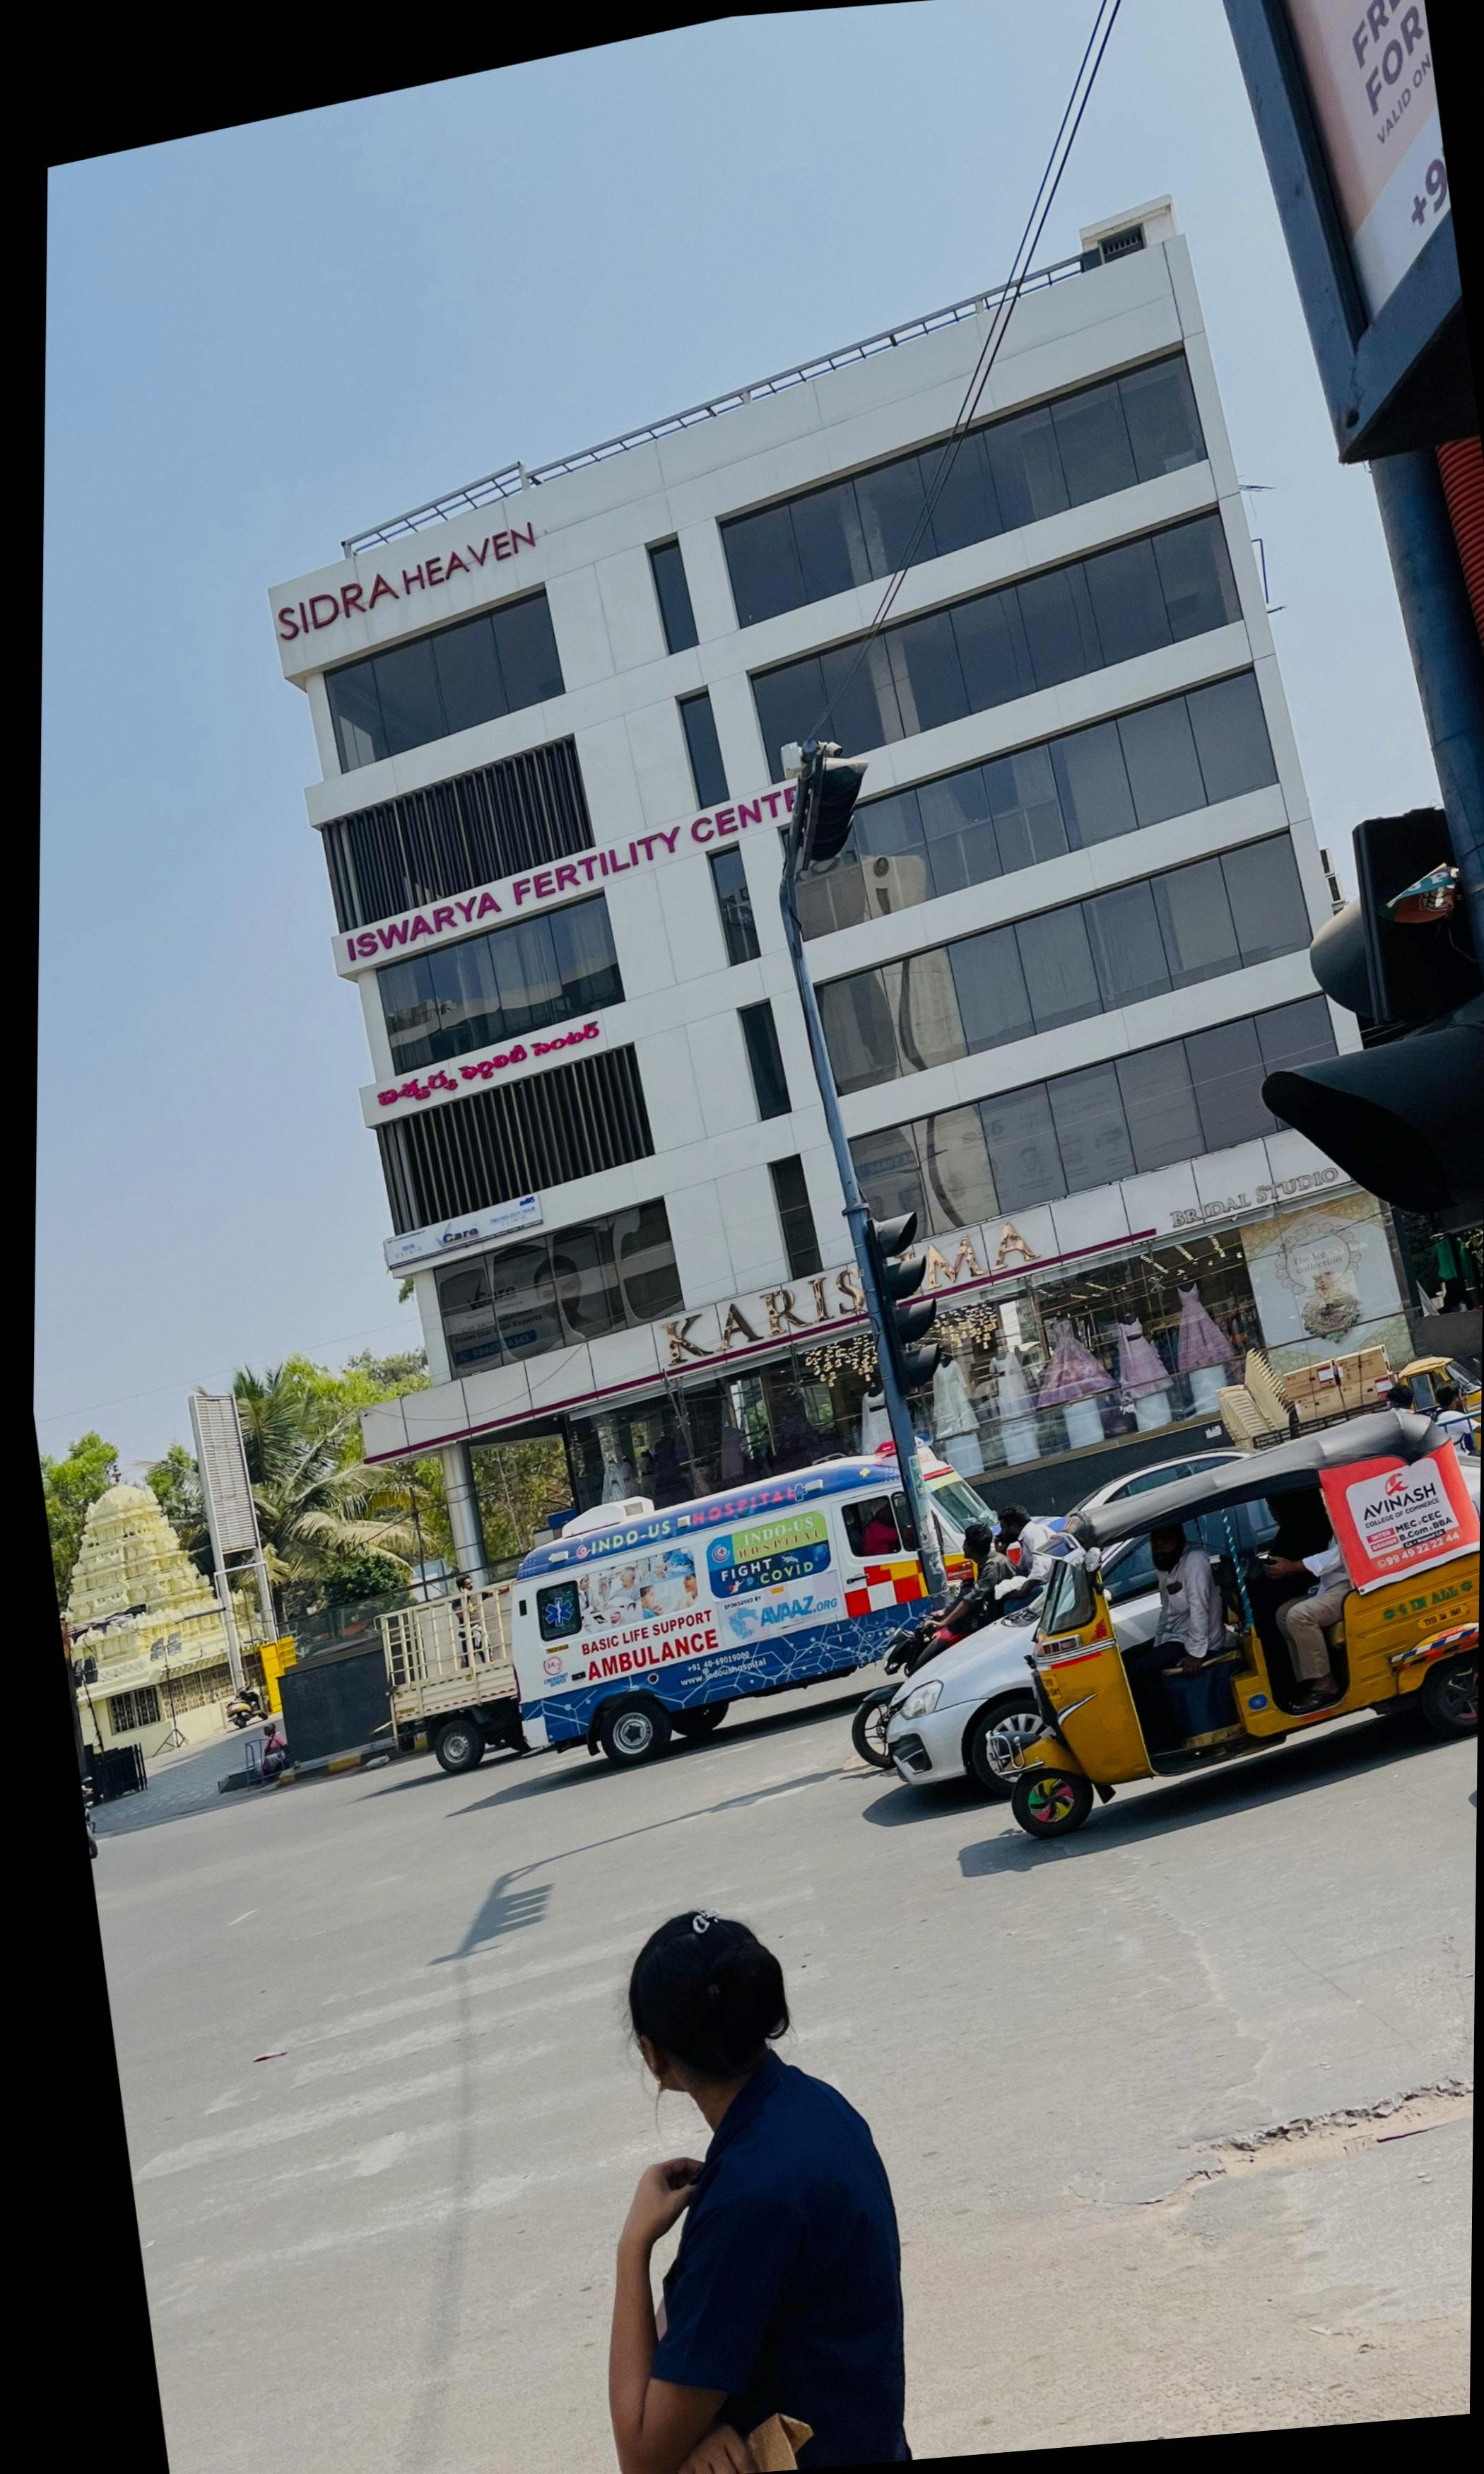ambulance: (514, 1438, 995, 1764)
